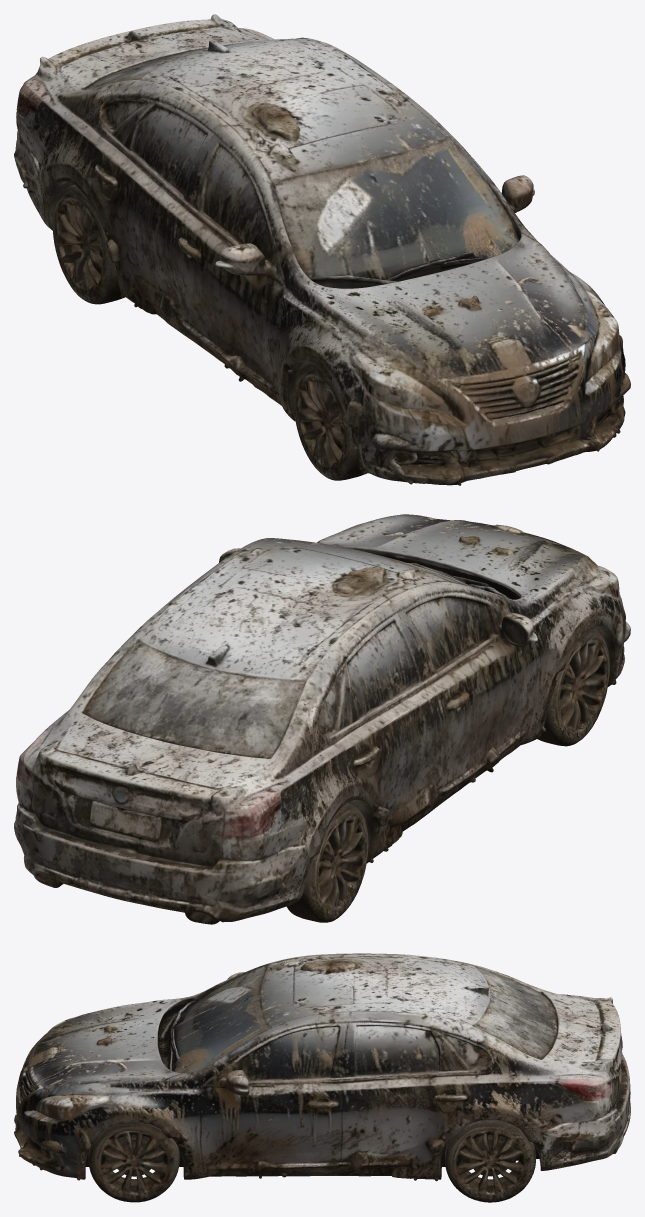
File: car-dirty.glb
3 views of the same model, one above another, from view 1: azimuth 30°, elevation 25°; view 2: azimuth 150°, elevation 25°; view 3: azimuth 270°, elevation 25° (orthographic). The views are drawn at different scales.
Parts seen in each view (by area): view 1: tripo_node_0cf53872-22c3-4819-b302-dbcd47403648; view 2: tripo_node_0cf53872-22c3-4819-b302-dbcd47403648; view 3: tripo_node_0cf53872-22c3-4819-b302-dbcd47403648.
Boxes of the visible parts, x1,y1,x2,y2 form: tripo_node_0cf53872-22c3-4819-b302-dbcd47403648: (14,14,630,485); tripo_node_0cf53872-22c3-4819-b302-dbcd47403648: (14,514,630,924); tripo_node_0cf53872-22c3-4819-b302-dbcd47403648: (14,953,630,1202).
Size of the model in its own units: 0.4382 by 0.3217 by 1.
Materials: 1 (1 with a texture image).
